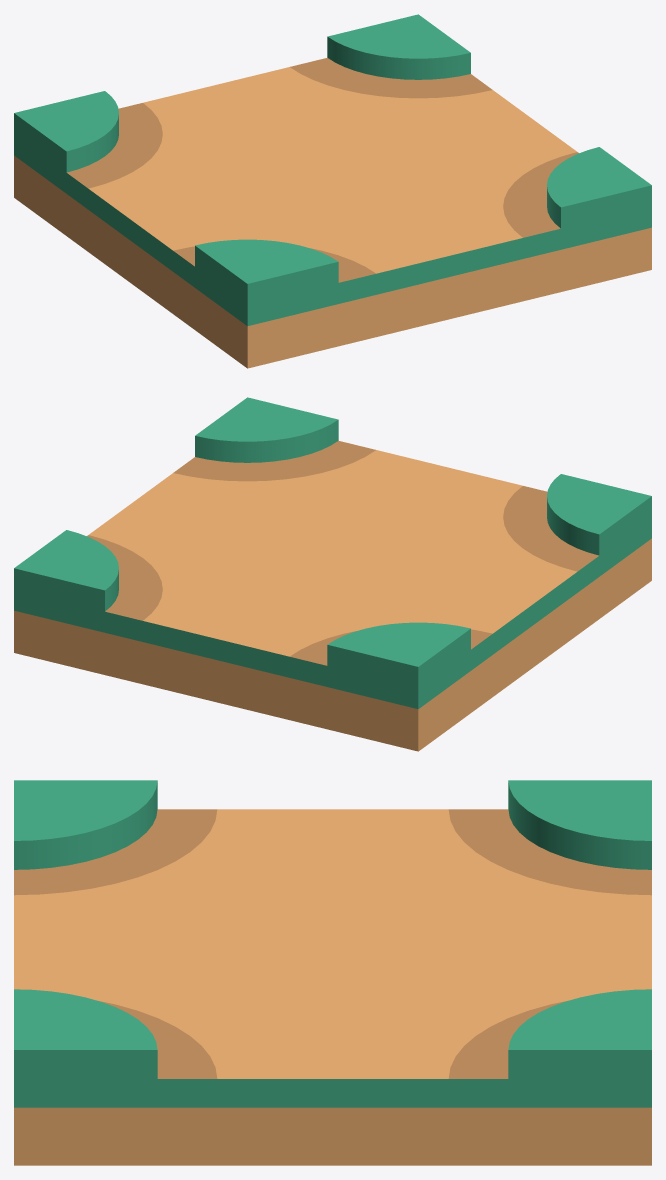
Rendered from TilePathCrossingGrass.fbx.
3 renders of one model, top to bottom at view 1: azimuth 30°, elevation 25°; view 2: azimuth 150°, elevation 25°; view 3: azimuth 270°, elevation 25°, orthographic. The views are drawn at different scales.
Visible parts, largest first — view 1: tile_crossing; view 2: tile_crossing; view 3: tile_crossing.
Part boxes in pixels (<box>): tile_crossing: <box>14,14,651,368</box>; tile_crossing: <box>14,397,651,751</box>; tile_crossing: <box>14,780,651,1165</box>.
Size of the model in its own units: 39.37 by 39.37 by 7.87.
